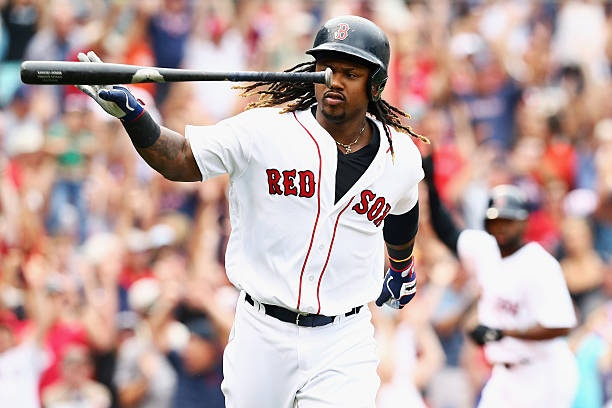bita: (15, 59, 338, 86)
